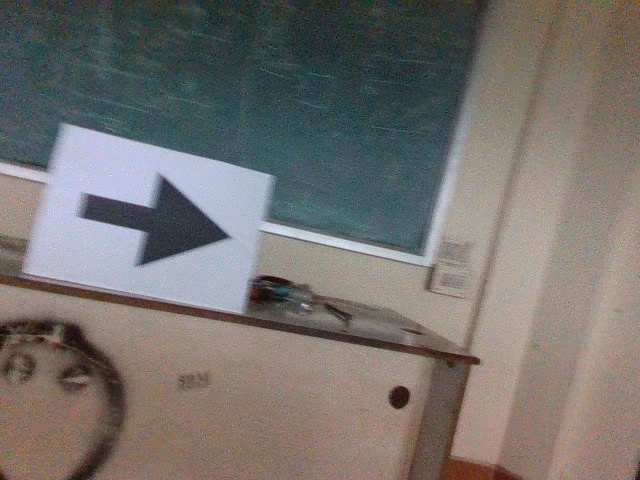Right: (71, 158, 240, 274)
